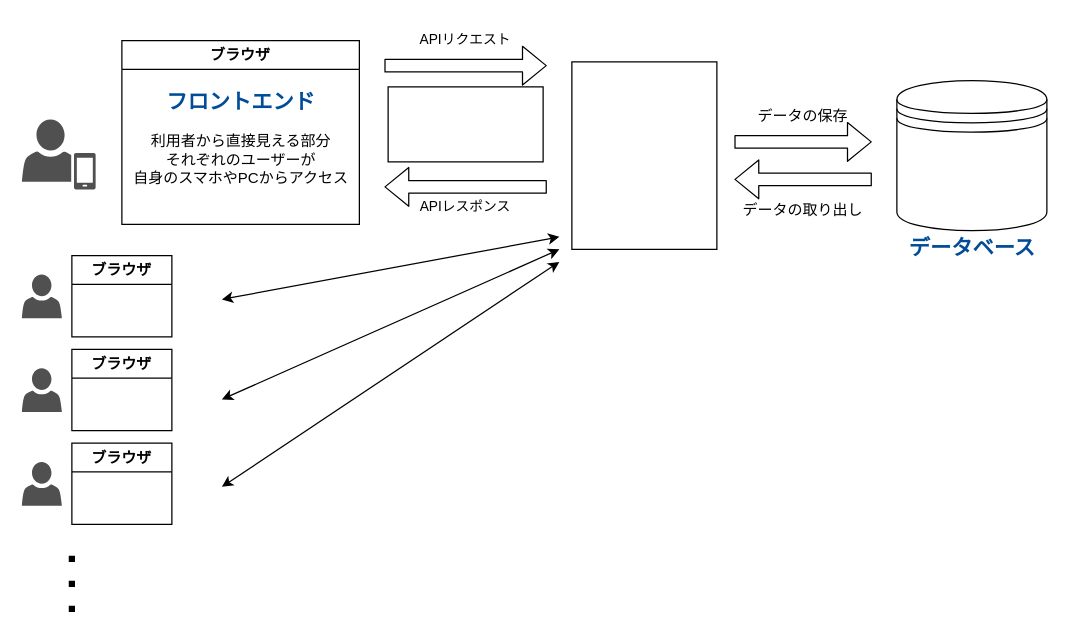
Some shapes in this 1074 by 638 pixel diagram are drawn without their labels. Here are the shapes that lost their labels. From the top down, the centre of each, then its label:
At (x=465, y=124): "・団体情報の取得 ・整理券の取得 ・自分の持ってい る整理券の一覧 など".
At (x=644, y=155): "API 利用者からは直接見えないシステムの裏側の部分".
